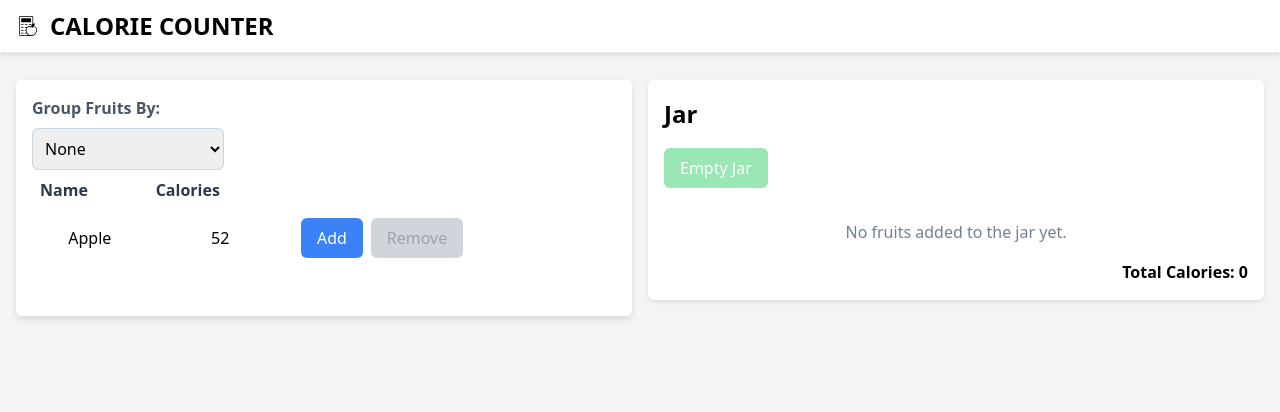
Test: should empty the jar when the "Empty Jar" button is clicked
Click the button with test id "add-Apple": (332, 238) [301,218,363,258]
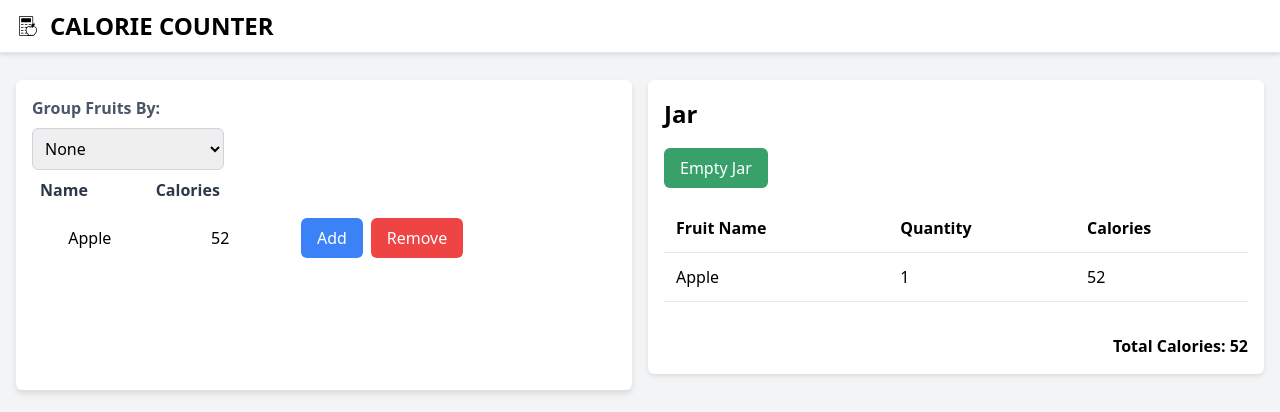
Expected: the text "Apple" below "Fruit Name" is shown, [676,266,719,288]
# Now click the Empty jar button
Click the button with test id "empty-jar": (716, 168) [664,148,768,188]
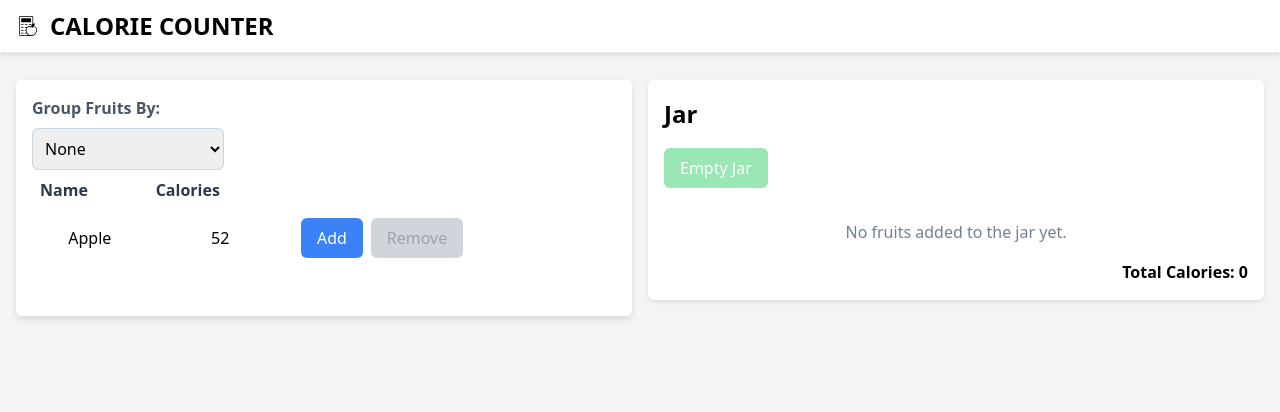
Expected: the text "No fruits added to the jar yet." is shown, [846,221,1066,243]
